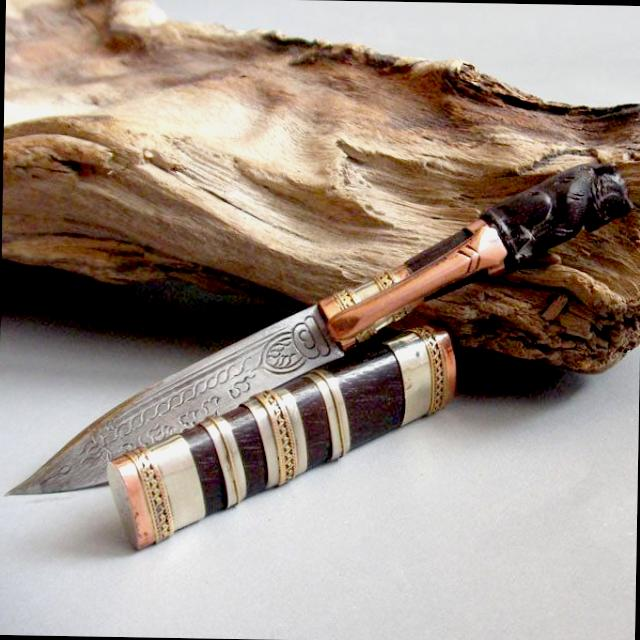short sword: (6, 138, 637, 565)
